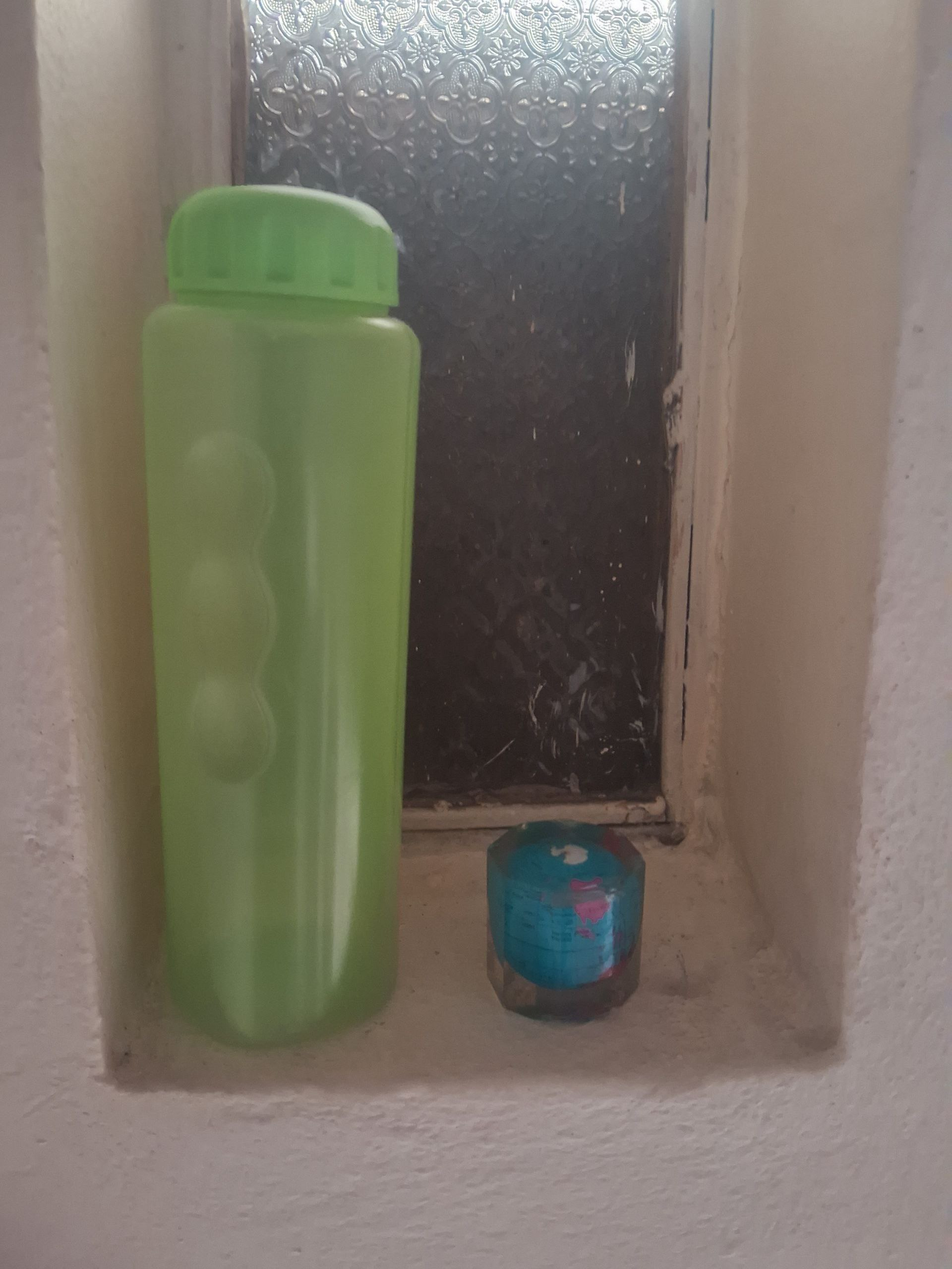Water_bottle: (130, 163, 431, 1067)
world_globe: (479, 813, 654, 1030)
